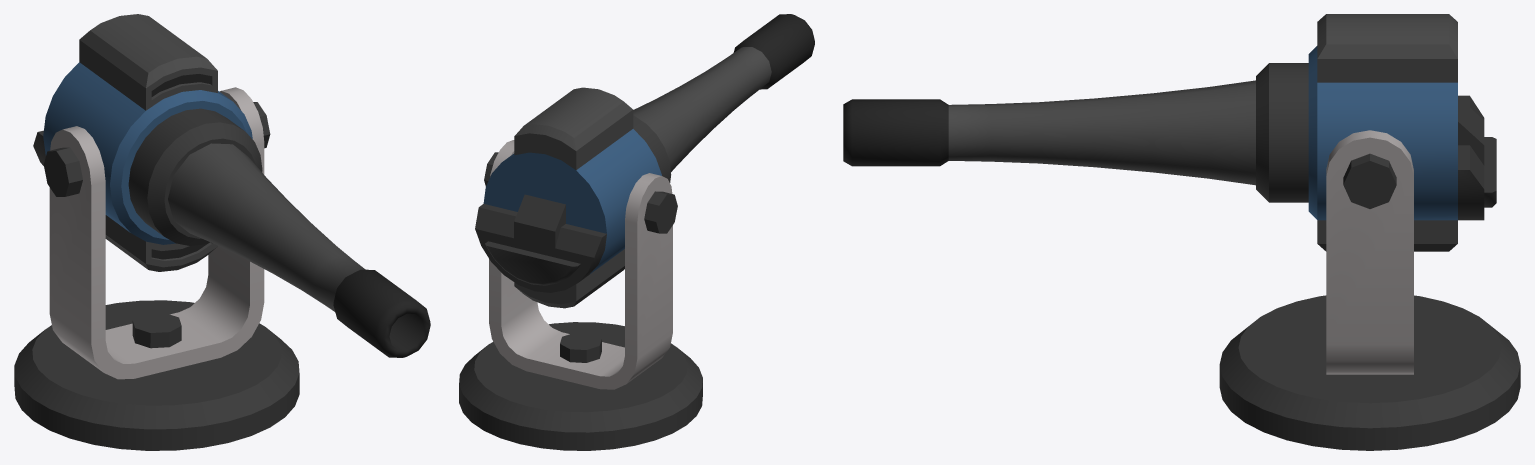
File: machinegun_1.fbx
3 views of the same model, side by side, from view 1: azimuth 30°, elevation 25°; view 2: azimuth 150°, elevation 25°; view 3: azimuth 270°, elevation 25° (orthographic). The views are drawn at different scales.
Parts seen in each view (by area): view 1: machinegun_1, machinegun_1_turret, machinegun_1_cannon; view 2: machinegun_1, machinegun_1_turret, machinegun_1_cannon; view 3: machinegun_1, machinegun_1_turret, machinegun_1_cannon.
Part boxes in pixels (x1=…): machinegun_1: x1=14, y1=87, x2=299, y2=450; machinegun_1_turret: x1=33, y1=14, x2=262, y2=271; machinegun_1_cannon: x1=168, y1=143, x2=430, y2=357; machinegun_1: x1=459, y1=140, x2=702, y2=450; machinegun_1_turret: x1=475, y1=87, x2=671, y2=308; machinegun_1_cannon: x1=633, y1=14, x2=814, y2=171; machinegun_1: x1=1219, y1=130, x2=1520, y2=450; machinegun_1_turret: x1=1256, y1=14, x2=1496, y2=251; machinegun_1_cannon: x1=843, y1=80, x2=1255, y2=185.
Size of the model in its own units: 0.48 by 1.08 by 0.644.
